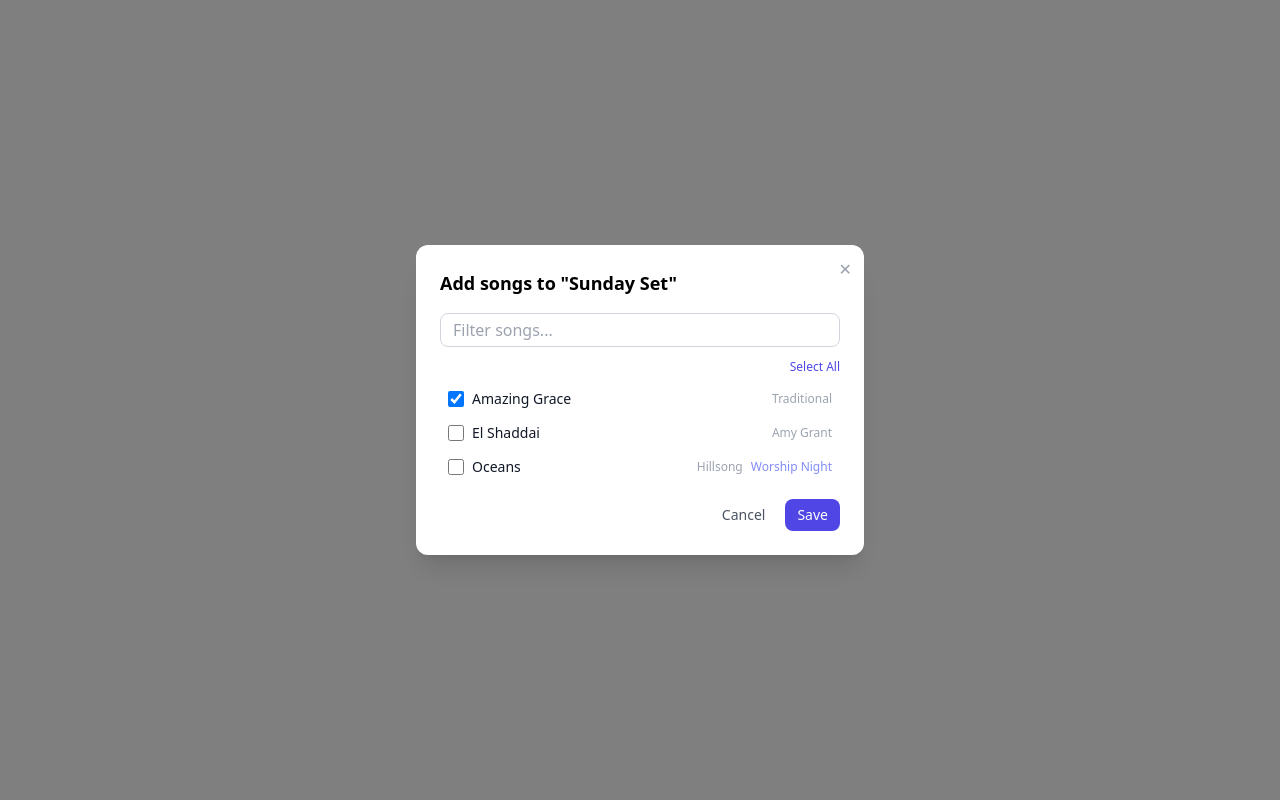
AddSongsModal › Select All checks all visible songs
Click the button "Select All": [815, 367] box [790,359,840,375]
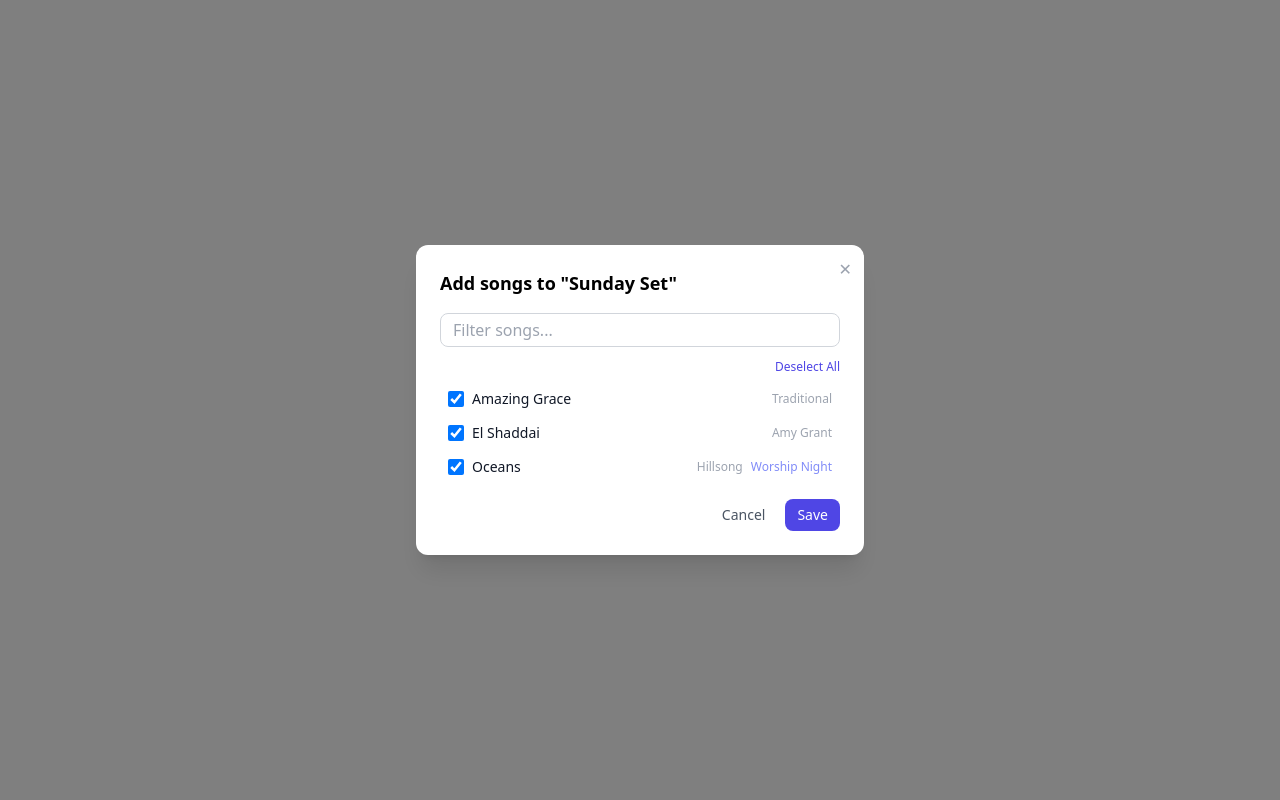
Expected: the checkbox labelled "Amazing Grace Traditional" is checked, [448,391,464,407]
Expected: the checkbox labelled "El Shaddai Amy Grant" is checked, [448,425,464,441]
Expected: the checkbox labelled "Oceans Hillsong Worship Night" is checked, [448,459,464,475]
